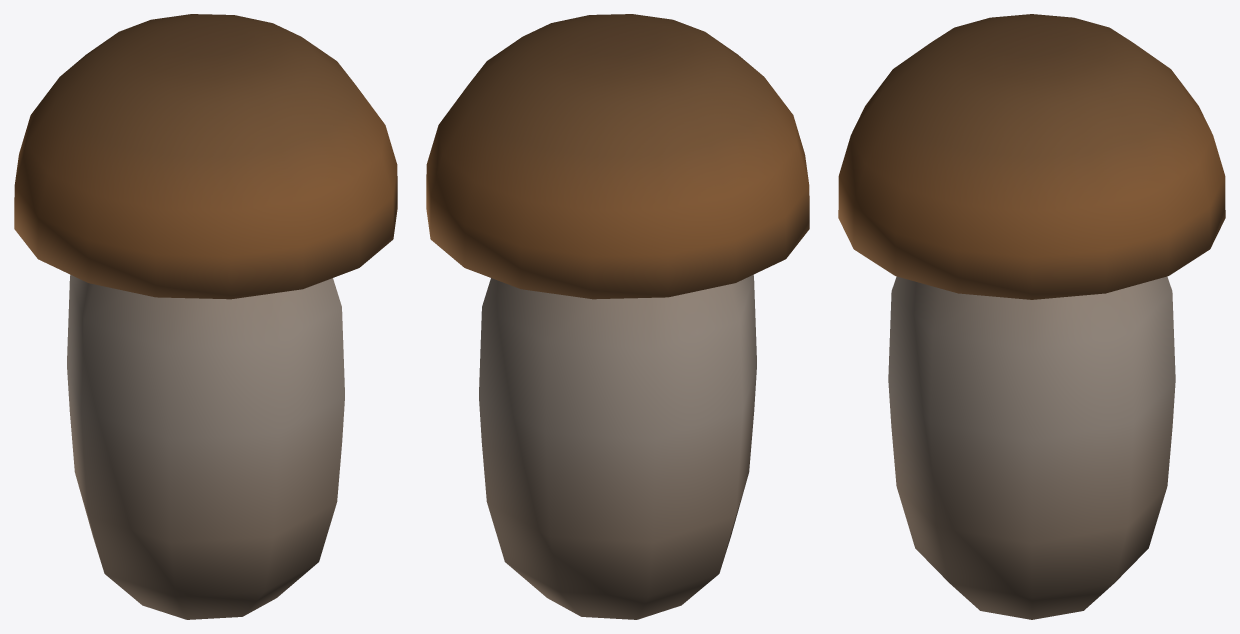
The model's file is plants-mushrooms-porcini-mushroom_v2.glb.
3 views of the same model, side by side, from view 1: azimuth 30°, elevation 25°; view 2: azimuth 150°, elevation 25°; view 3: azimuth 270°, elevation 25° (orthographic).
Parts seen in each view (by area): view 1: Porcini Mushroom_v2; view 2: Porcini Mushroom_v2; view 3: Porcini Mushroom_v2.
Boxes of the visible parts, x1=… form: Porcini Mushroom_v2: x1=14, y1=14, x2=397, y2=619; Porcini Mushroom_v2: x1=426, y1=14, x2=809, y2=619; Porcini Mushroom_v2: x1=838, y1=14, x2=1225, y2=619.
Bounding box in the file's own units: 0.1228 × 0.2 × 0.1228.
